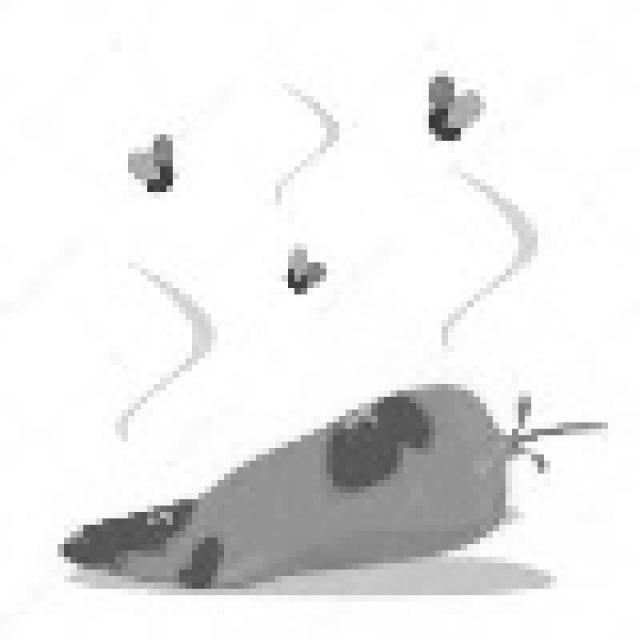Stale_Carrot: (85, 350, 524, 592)
